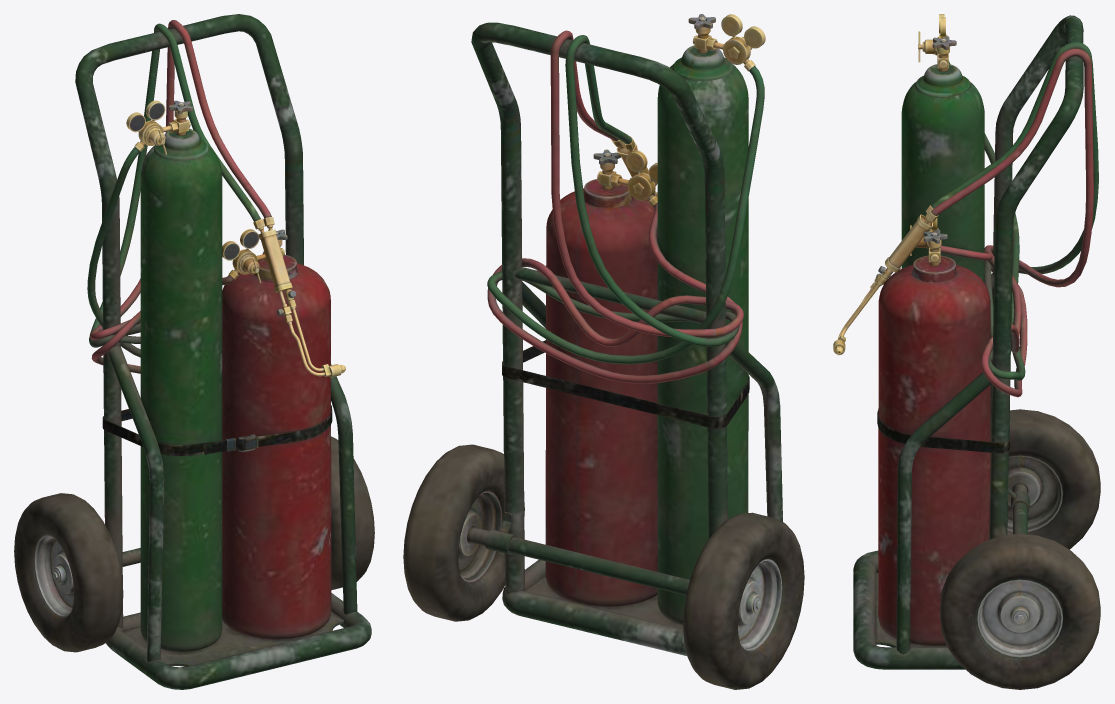
3 renders of one model, left to right at view 1: azimuth 30°, elevation 25°; view 2: azimuth 150°, elevation 25°; view 3: azimuth 270°, elevation 25°, orthographic. The views are drawn at different scales.
Parts seen in each view (by area): view 1: portable_welding_cart; view 2: portable_welding_cart; view 3: portable_welding_cart.
Boxes of the visible parts, x1,y1,x2,y2 form: portable_welding_cart: (14, 14, 374, 689); portable_welding_cart: (403, 14, 804, 689); portable_welding_cart: (833, 14, 1100, 689).
Bounding box in the file's own units: 0.8383 × 1.56 × 0.6549.
Materials: 2 (2 with a texture image).
